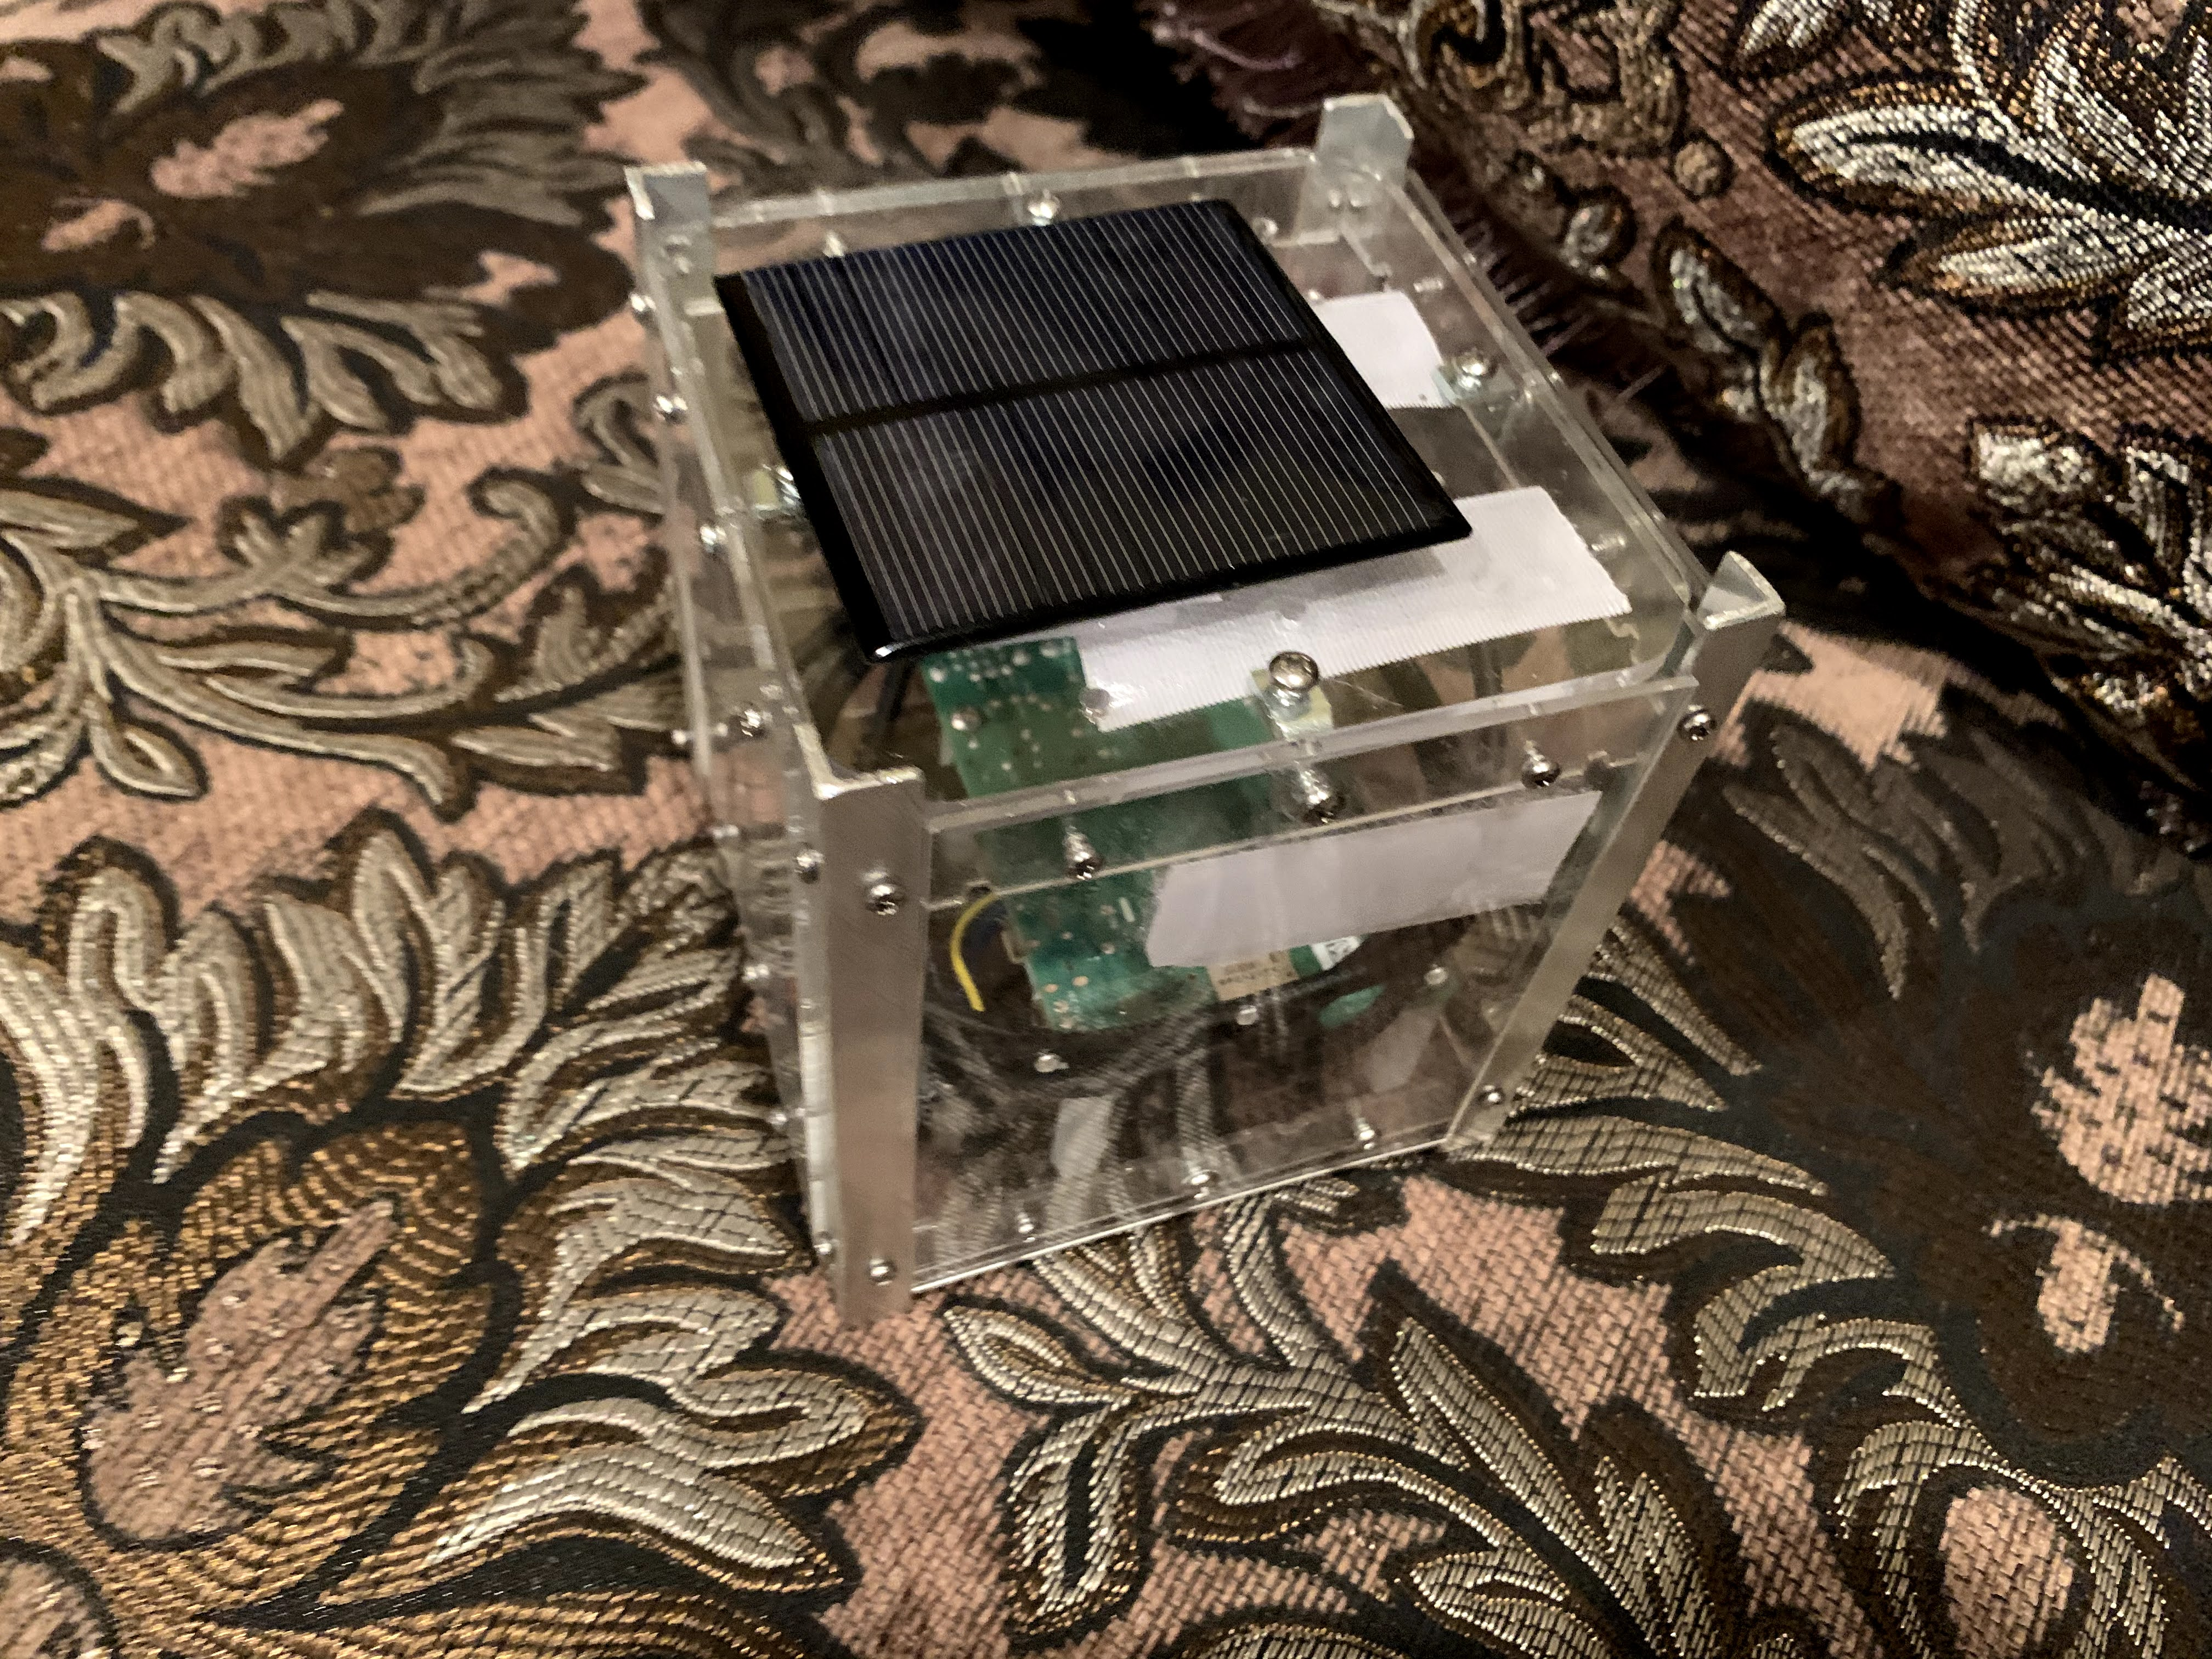Space-debris-cubesat: (528, 84, 1785, 1331)
